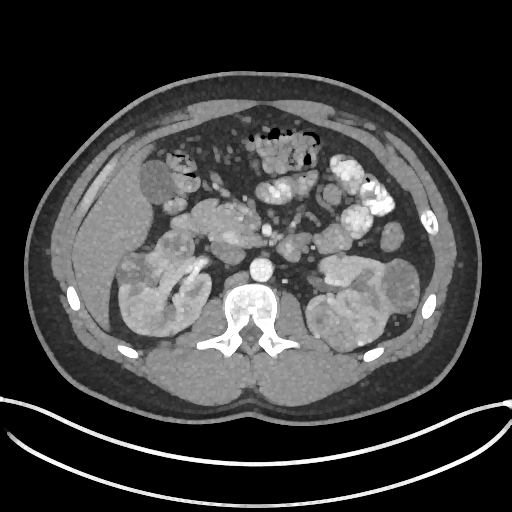Lesion: (374, 255, 422, 314), (112, 249, 153, 291)
